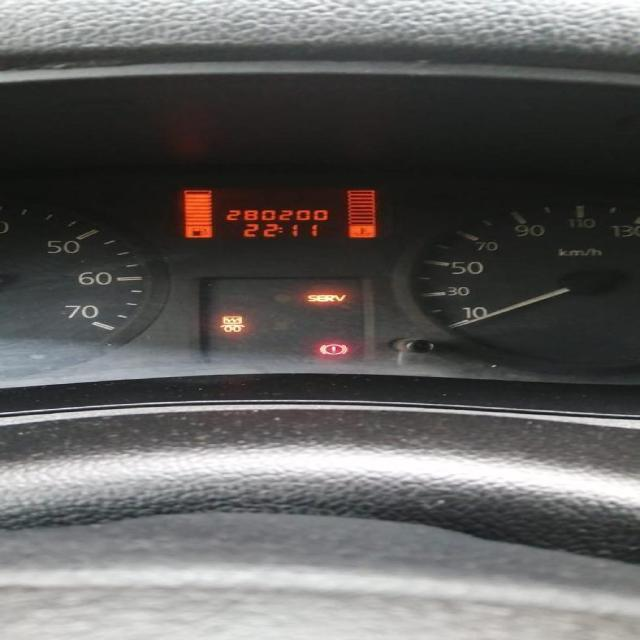odometer: (168, 184, 390, 243)
